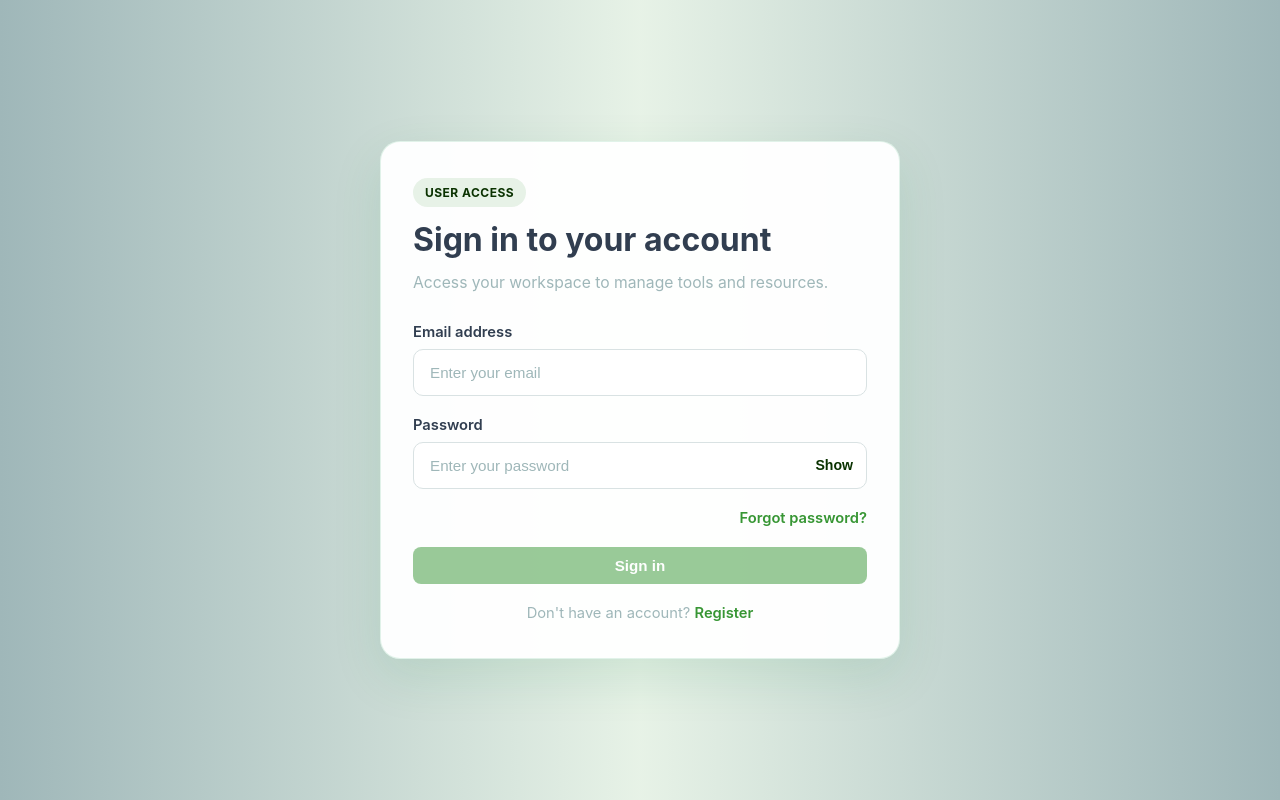
Test case: LoginPage › shows backend error message when login fails
Type "admin@test.com" into the field with placeholder "Enter your email".
click(640, 372); type("admin@test.com")  # box 413,349 -> 867,396
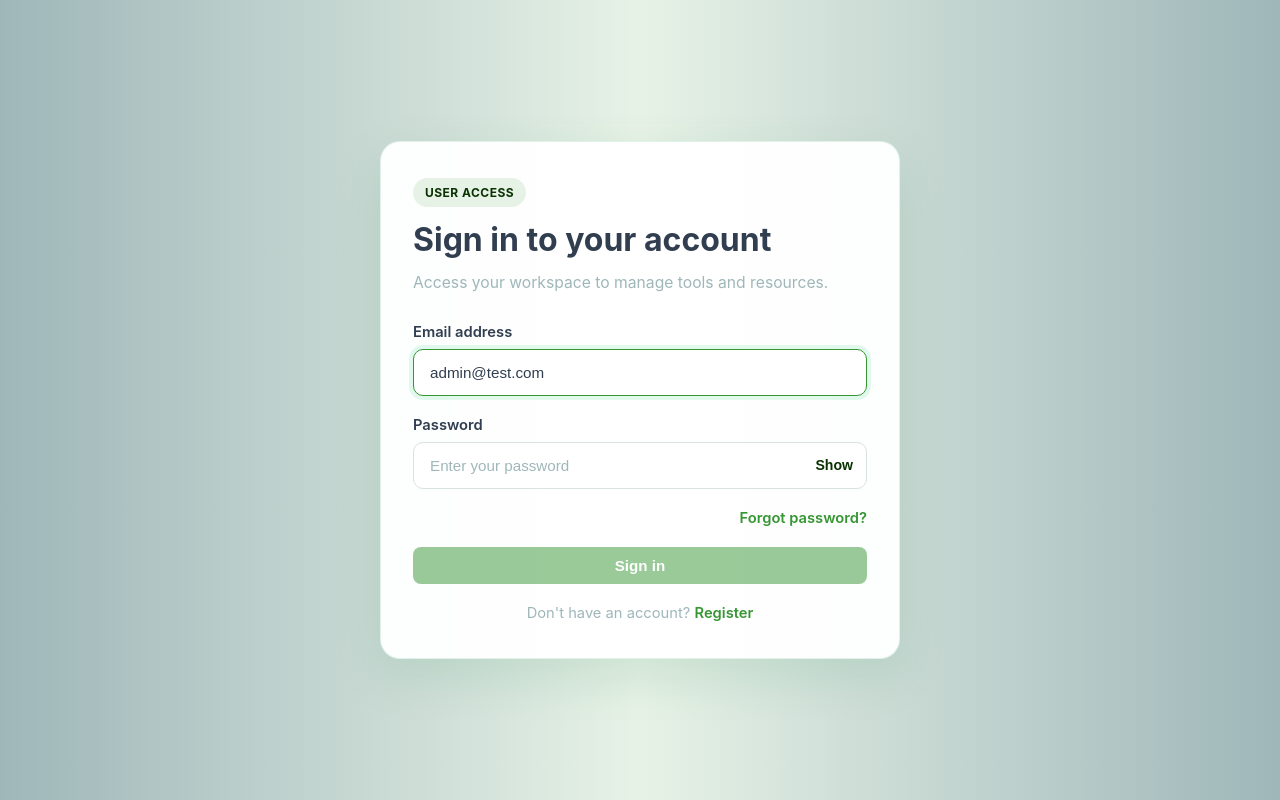
Type "wrong-password" into the password field with placeholder "Enter your password".
click(640, 465); type("wrong-password")  # box 413,442 -> 867,489
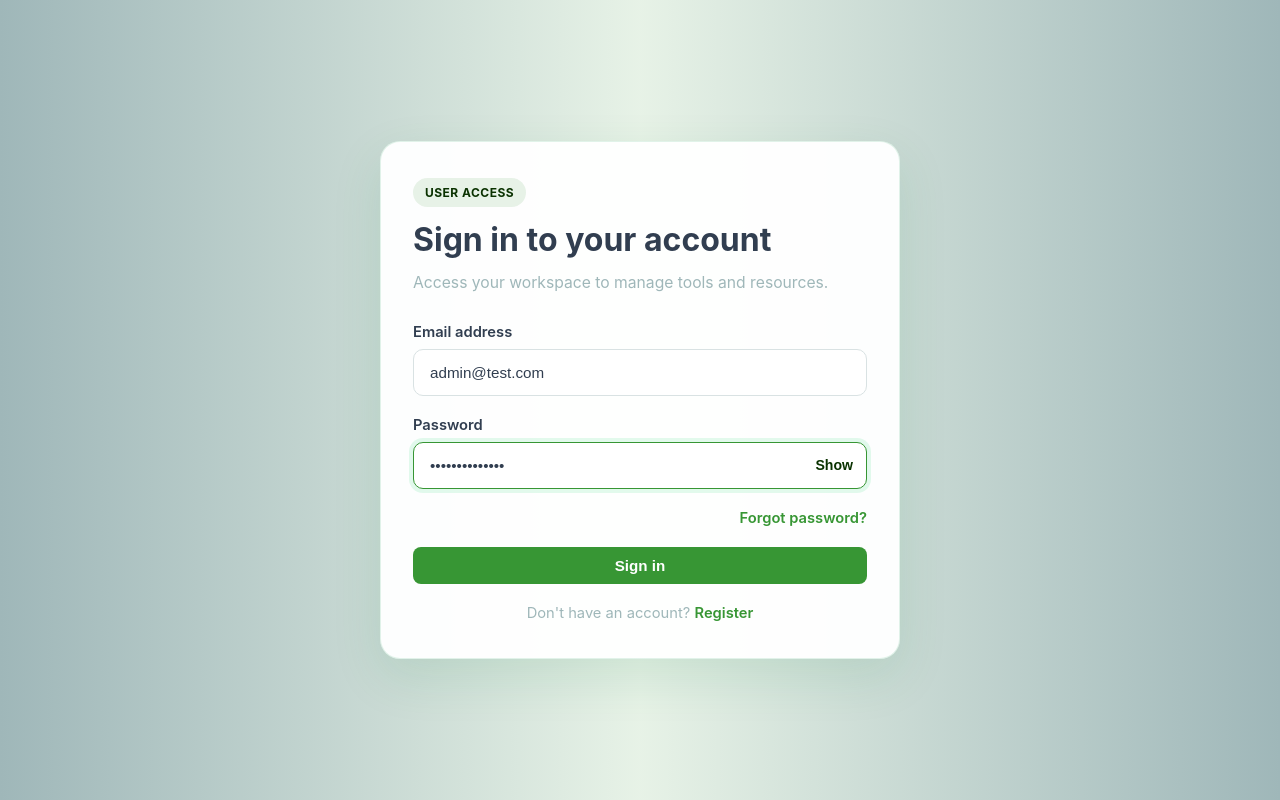
Click the button "Sign in".
click(640, 565)  # box 413,547 -> 867,584
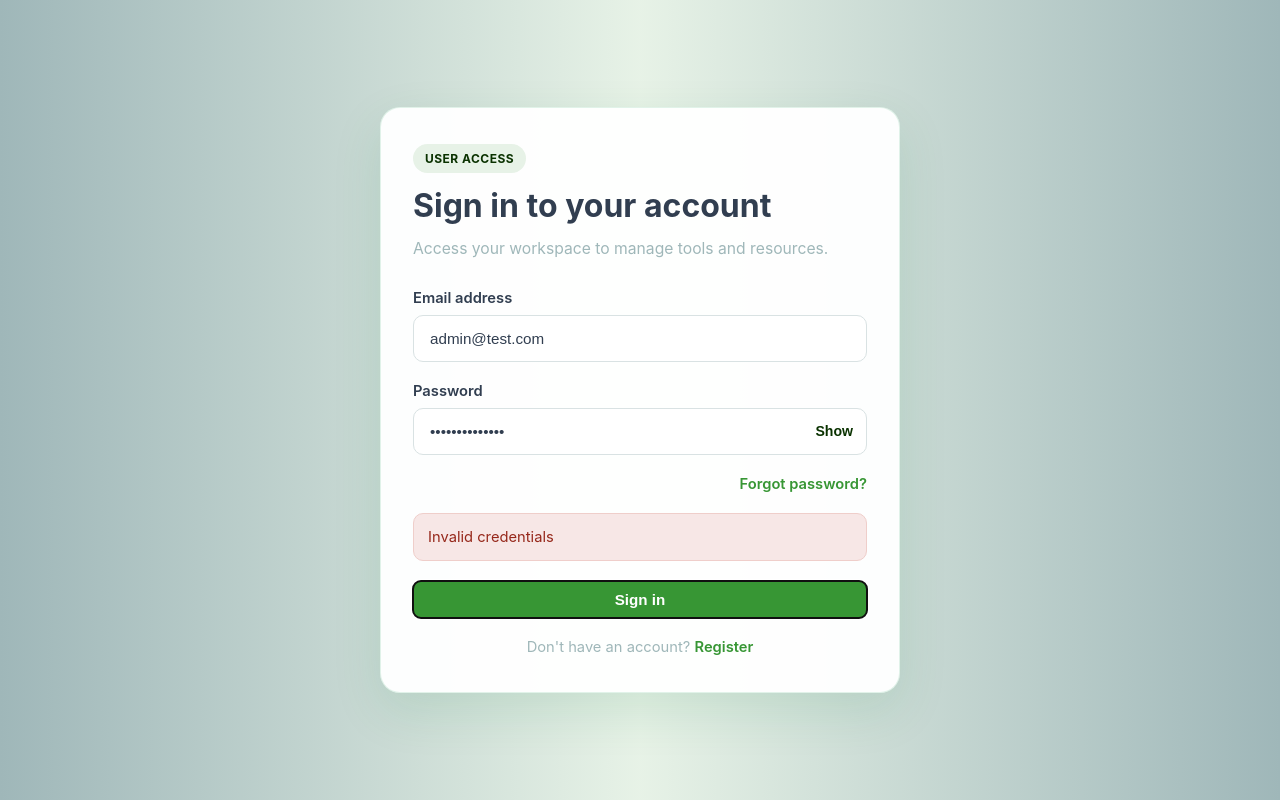
expect the text "Invalid credentials" is shown: met, box 413,513 -> 867,561
